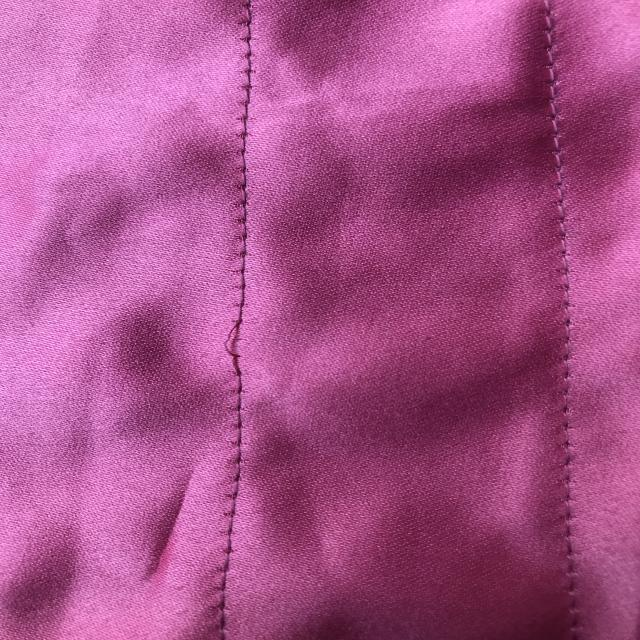skip: (206, 313, 256, 372)
